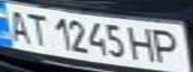1: (45, 15, 72, 51)
2: (66, 17, 87, 54)
4: (84, 19, 109, 56)
5: (103, 21, 130, 60)
A: (3, 7, 33, 43)
H: (124, 24, 160, 63)
P: (148, 26, 187, 65)
T: (21, 10, 51, 46)
